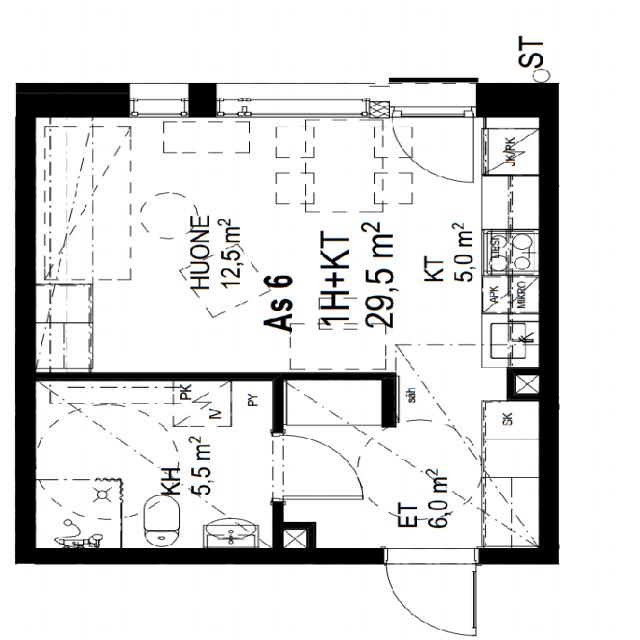door: (392, 83, 473, 182), (386, 548, 476, 636), (273, 434, 363, 499)
